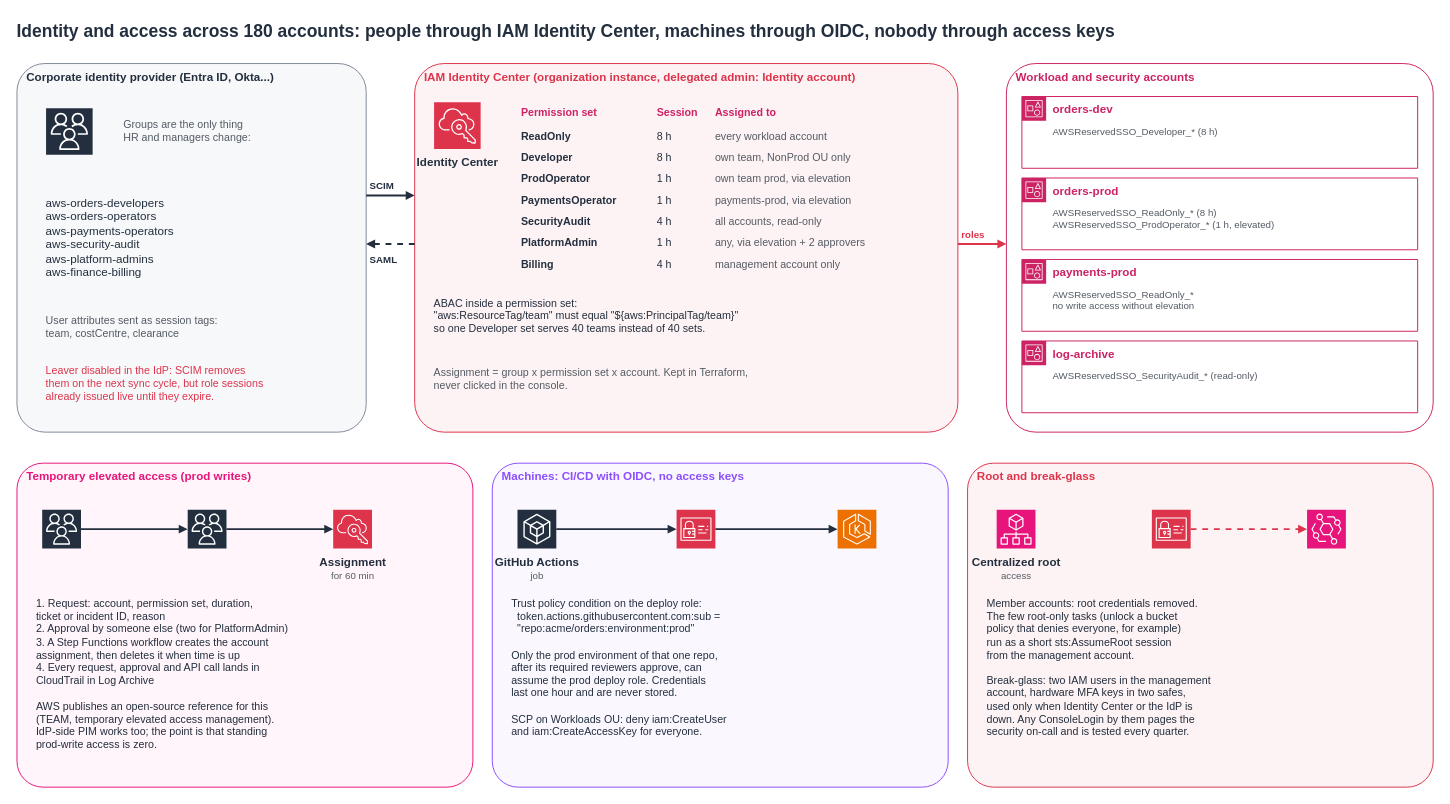
The diagram is 1450 pixels wide and 804 high, and some of its shapes have lost their labels. The shapes that lost their labels are listed below. From the top down, each one's centre as x and y in pixels, then its label:
(x=69, y=131): Workforce 3,200 people
(x=61, y=529): Engineer
(x=206, y=529): Approver on-call lead
(x=695, y=529): IAM OIDC provider + deploy role
(x=856, y=529): orders-prod resources
(x=1171, y=529): 2 break-glass IAM users (mgmt)
(x=1326, y=529): Login alarm < 1 min page
